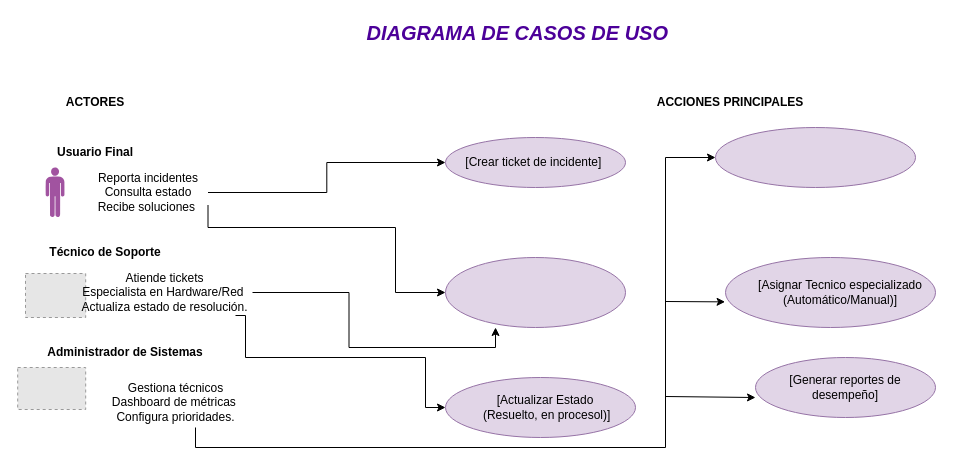
This 953x473 diagram has some shape labels left out. Grey dashed boxes stand in for pictures. Each missing label, with the centre of its shape:
[Categorizar fallo (red, hardware, software)]: point (815, 157)
[Consultar estado de ticket]: point (535, 292)
